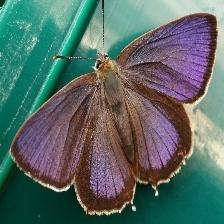butterfly: (10, 14, 218, 214)
